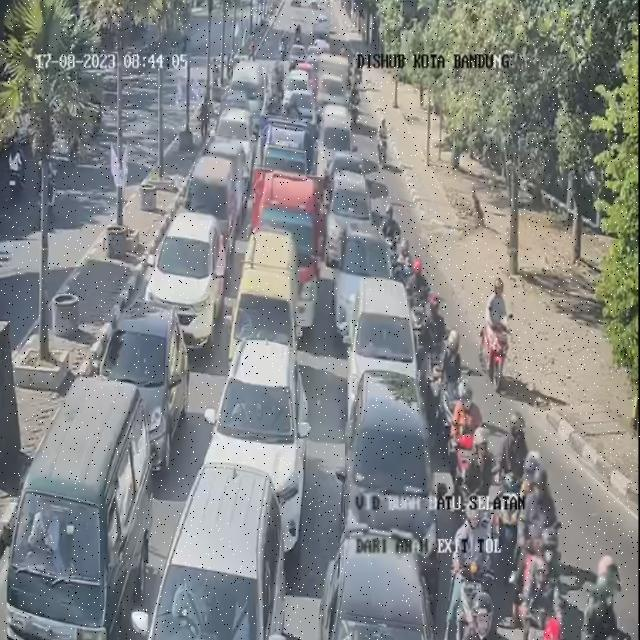cars: (2, 381, 149, 640), (155, 464, 283, 640), (203, 340, 311, 536), (346, 358, 436, 586), (321, 515, 438, 640), (92, 298, 182, 450), (339, 273, 420, 422), (226, 223, 303, 356), (153, 206, 228, 334), (334, 212, 390, 322), (322, 168, 369, 263), (195, 137, 242, 220), (329, 148, 373, 191), (318, 103, 349, 156), (234, 63, 262, 119), (222, 101, 252, 151), (289, 90, 317, 125), (288, 68, 308, 97)
motorcycle: (517, 441, 561, 569), (446, 493, 486, 622), (519, 531, 564, 630), (480, 273, 516, 395), (428, 328, 469, 427), (498, 390, 524, 533), (457, 421, 494, 518), (589, 543, 617, 640), (450, 380, 473, 464), (407, 260, 430, 324), (395, 235, 418, 288), (425, 294, 444, 358), (374, 109, 390, 175), (380, 196, 398, 243), (352, 82, 364, 126), (272, 62, 284, 90), (274, 88, 278, 110)
truck: (256, 177, 323, 318), (259, 111, 312, 199), (310, 48, 348, 114)
